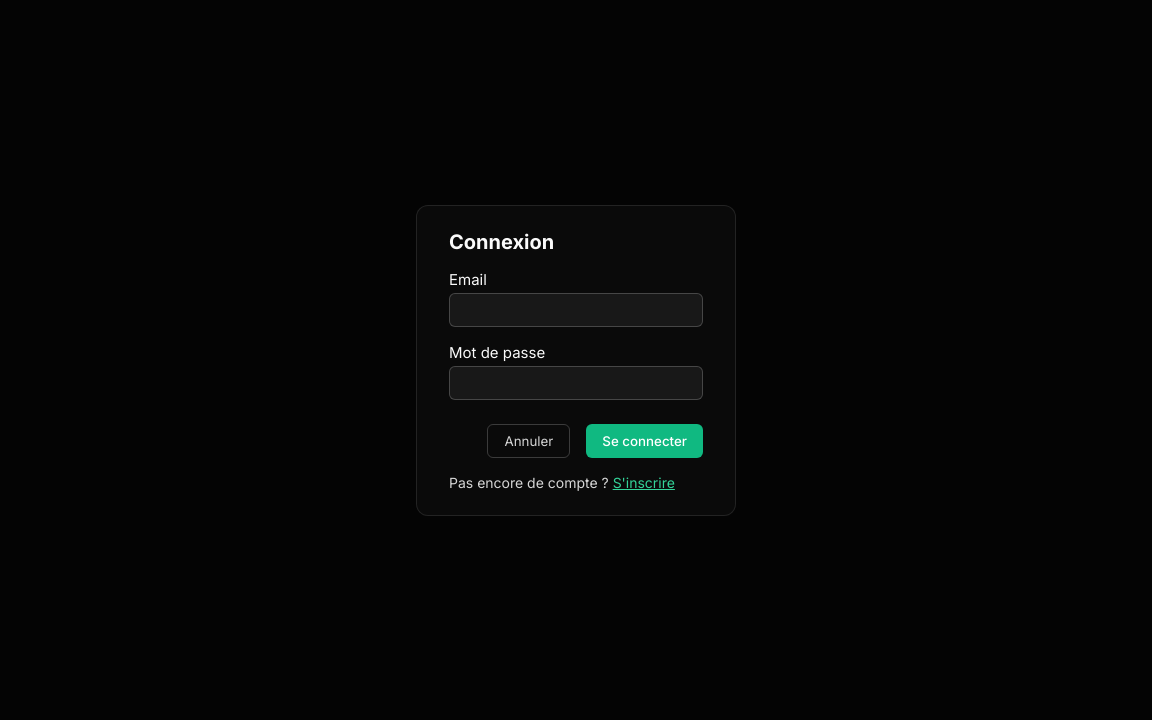
Test: LoginModal › affiche une erreur en cas d'échec de l'API
Type "bad@example.com" into the field labelled "Email" at (576, 310), box x1=449 y1=292 x2=703 y2=326
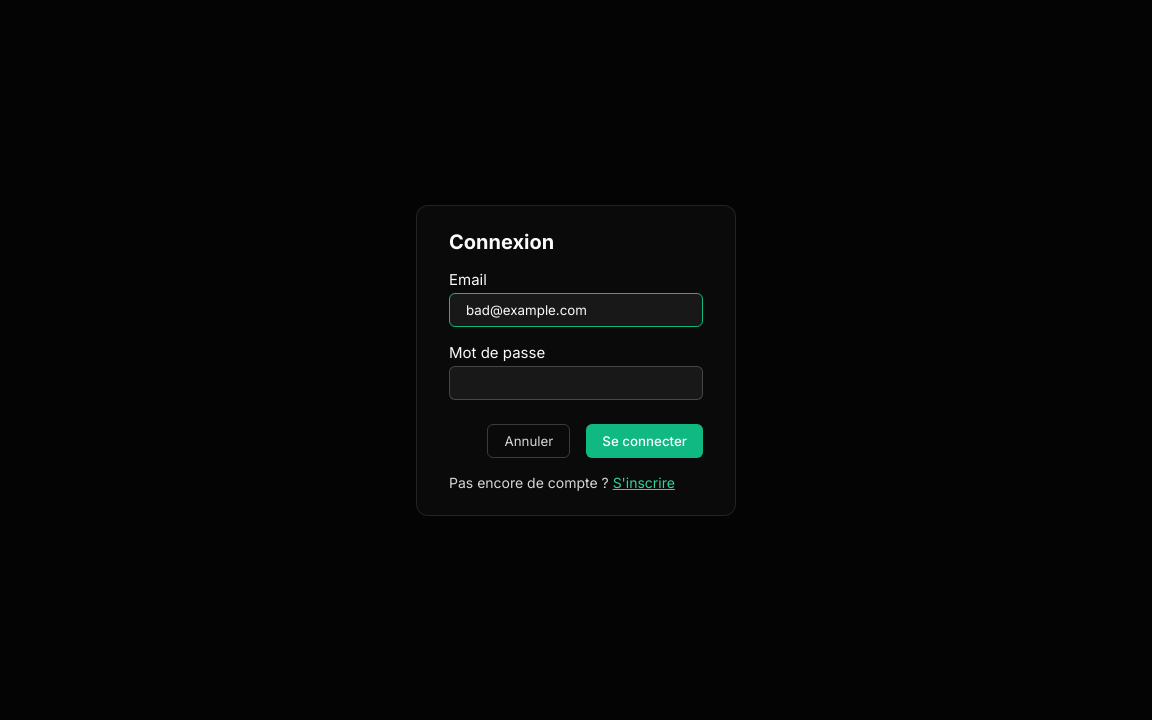
Type "wrong" into the password field labelled "Mot de passe" at (576, 382), box x1=449 y1=366 x2=703 y2=400
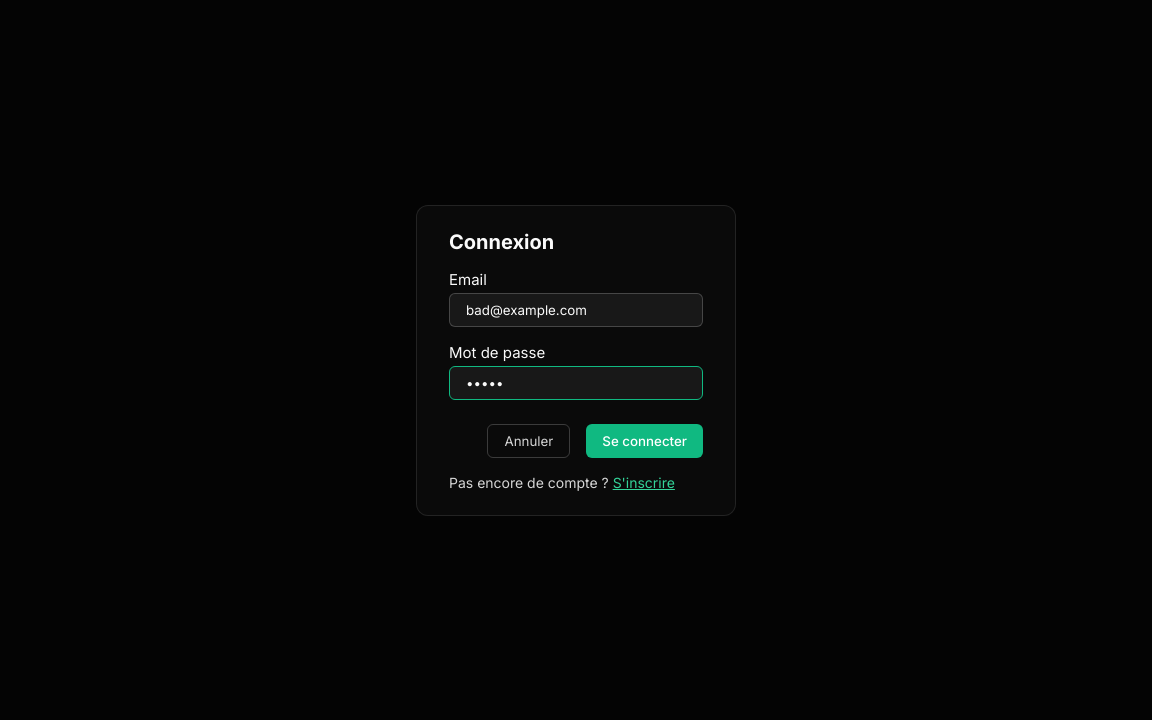
Click the button "Se connecter" at (645, 440), box x1=586 y1=424 x2=703 y2=458
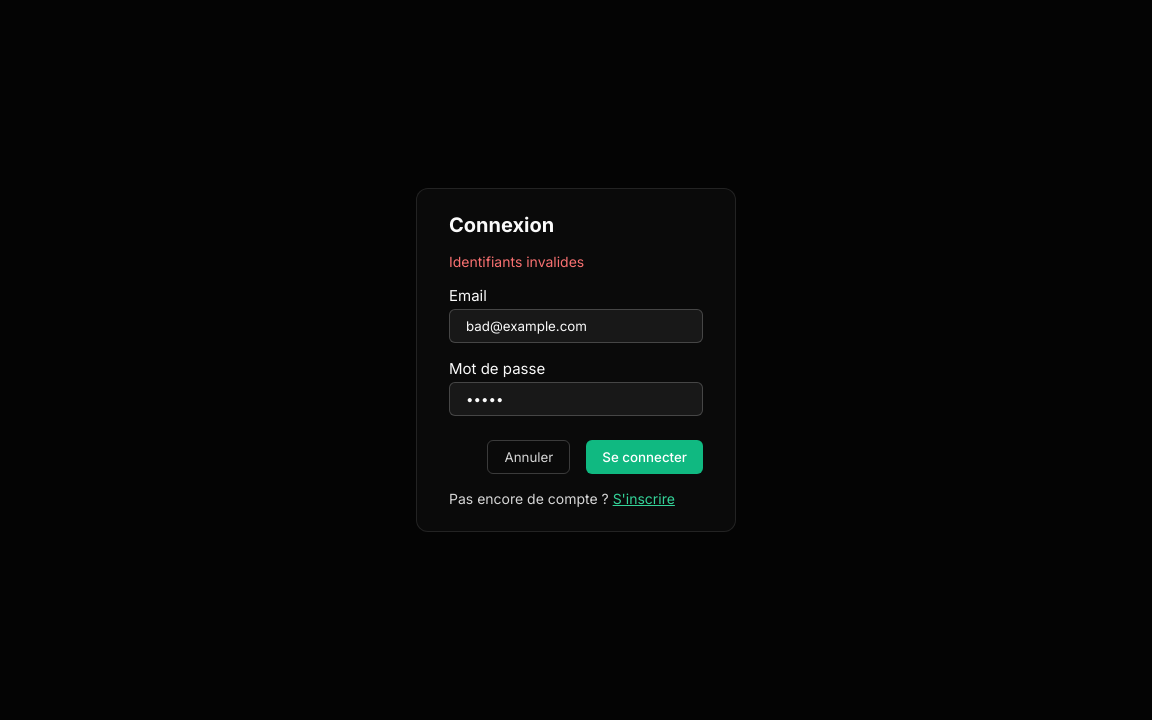
Expected: the text "Identifiants invalides" is shown, x1=449 y1=253 x2=584 y2=270
